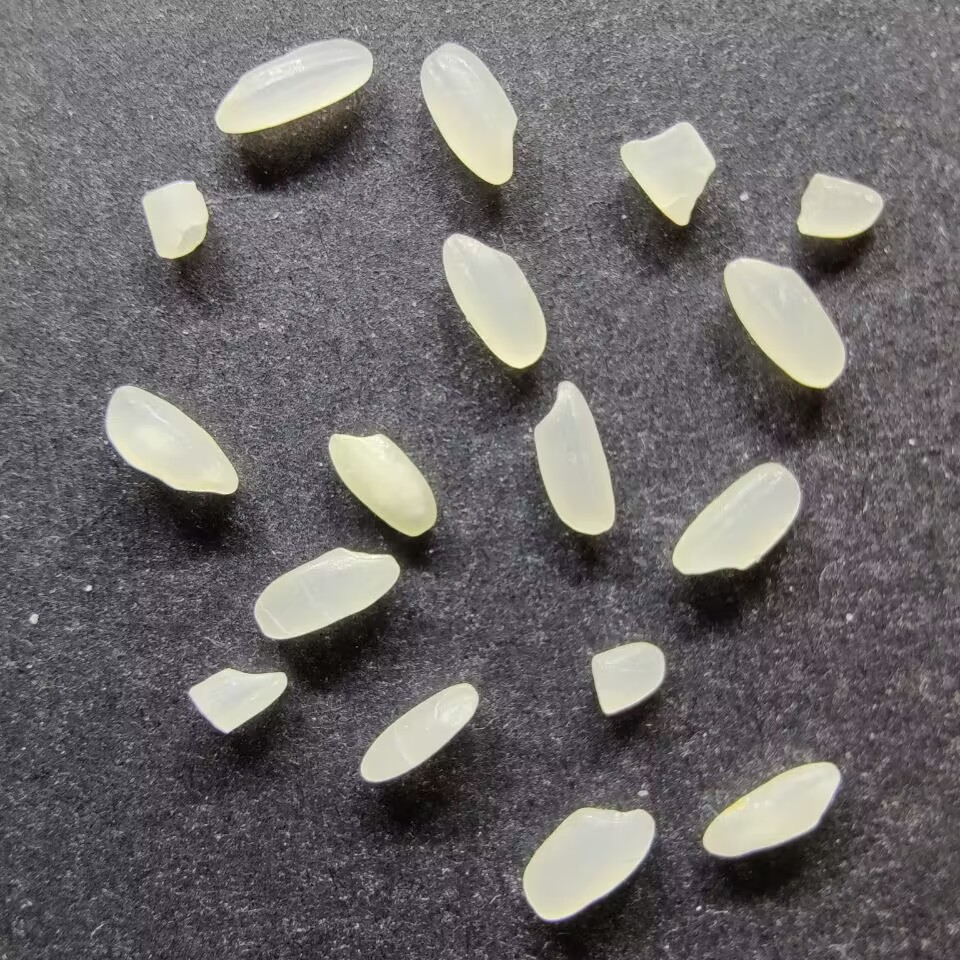broken: (619, 120, 716, 226), (187, 666, 288, 735), (796, 172, 884, 239), (590, 641, 666, 715), (141, 180, 208, 259)
rice: (722, 256, 846, 389), (521, 805, 655, 922), (213, 37, 373, 134), (104, 384, 239, 495), (671, 462, 801, 575), (419, 41, 519, 186), (441, 232, 546, 370), (252, 547, 400, 640), (702, 760, 840, 858), (532, 380, 615, 536), (359, 682, 479, 784), (326, 432, 437, 538)
